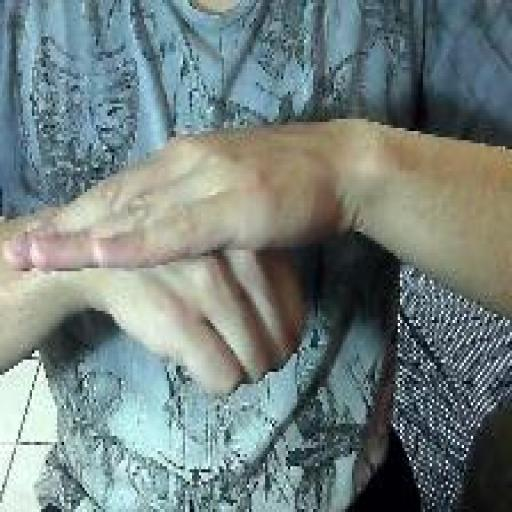Inu -dog-: (2, 123, 311, 404)
